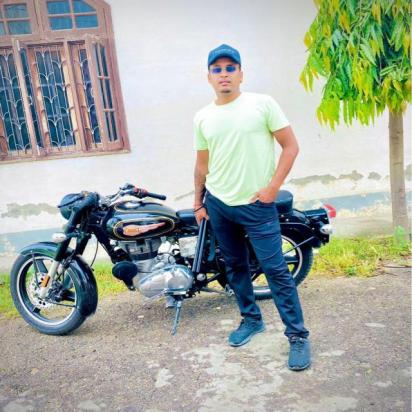Gun: (191, 198, 208, 274)
